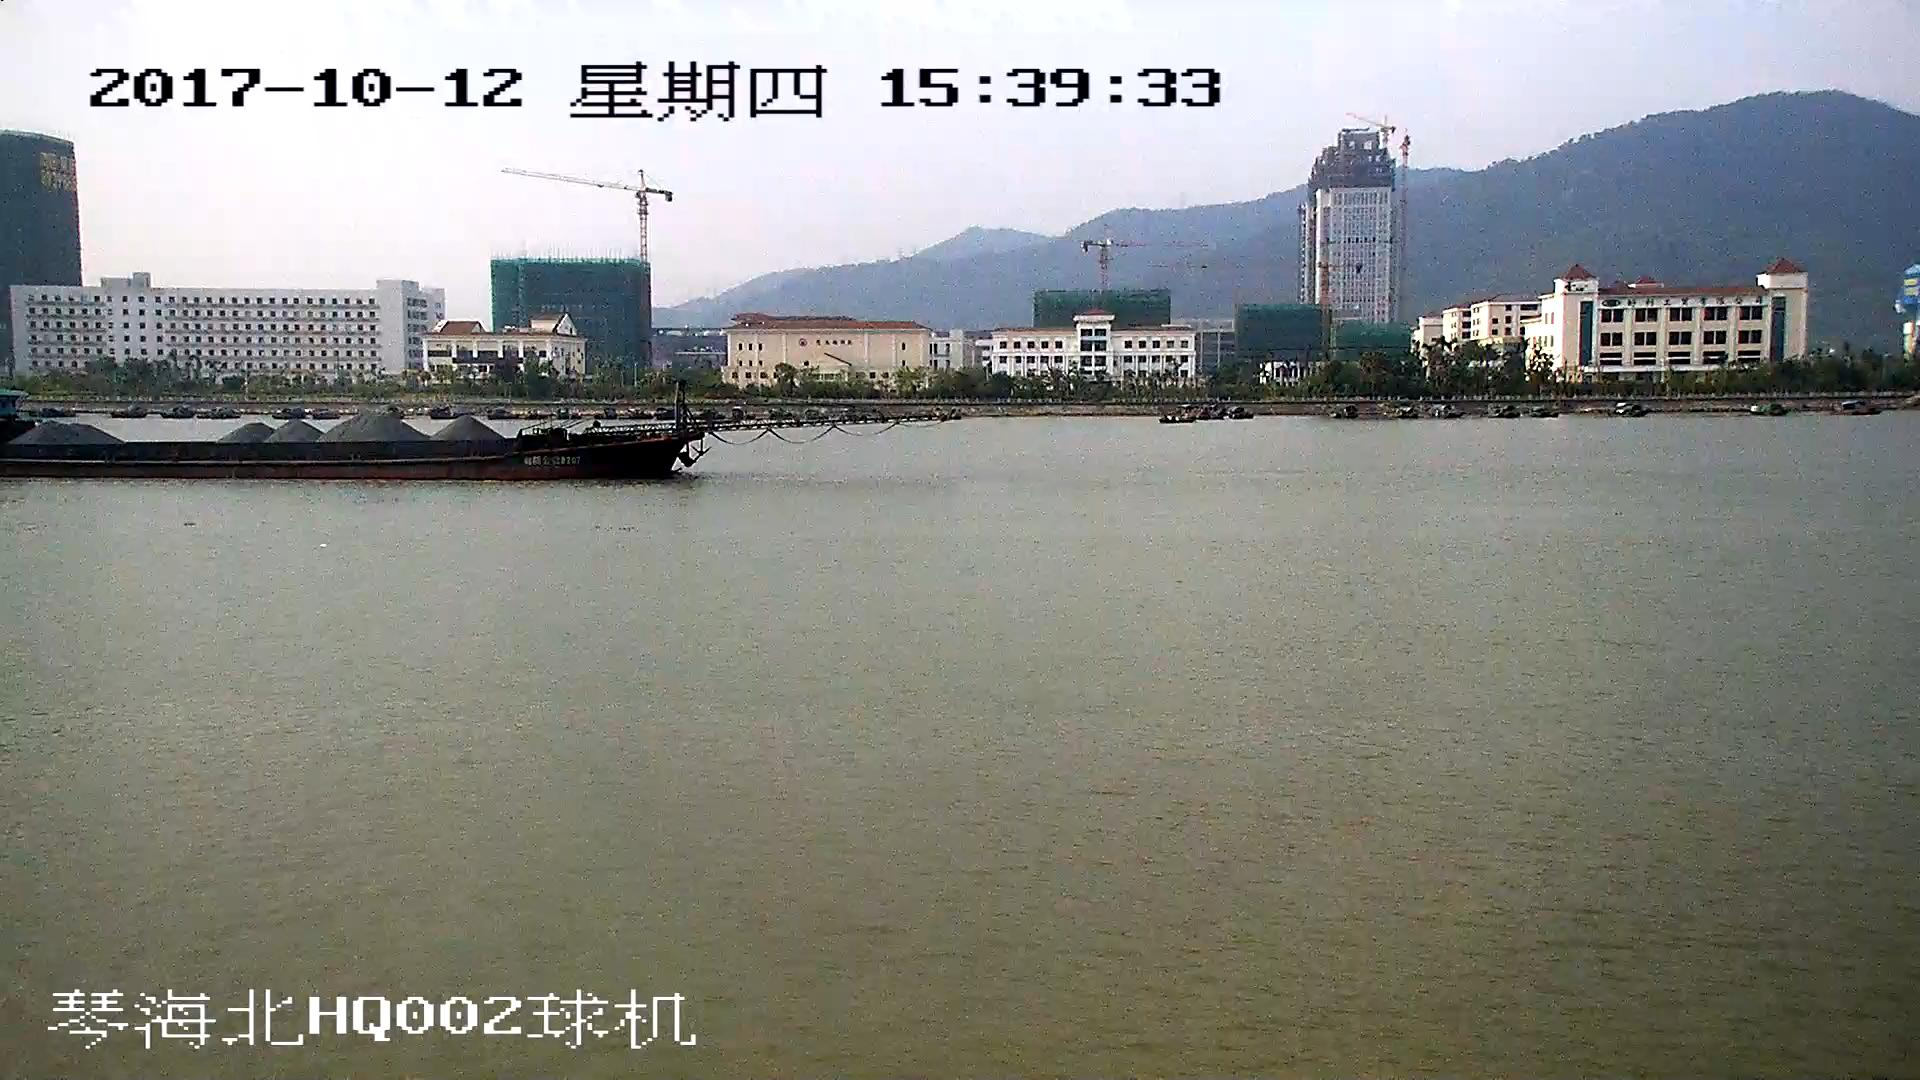ore carrier: (1, 376, 915, 476)
